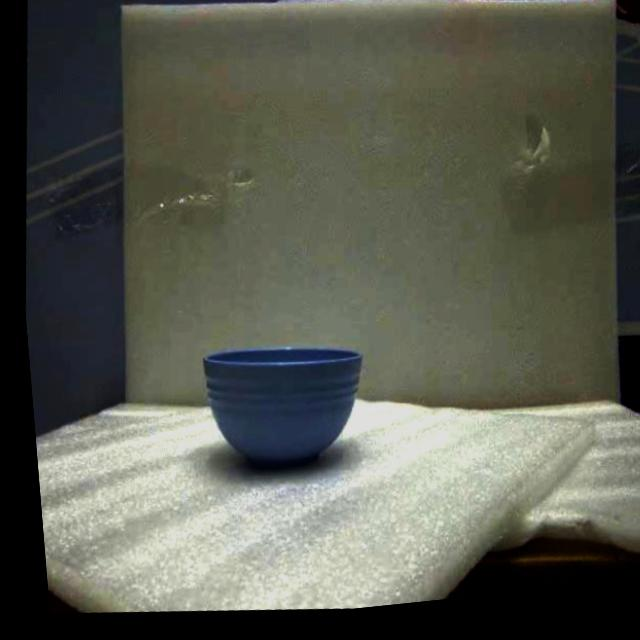Bowl: (204, 348, 360, 467)
